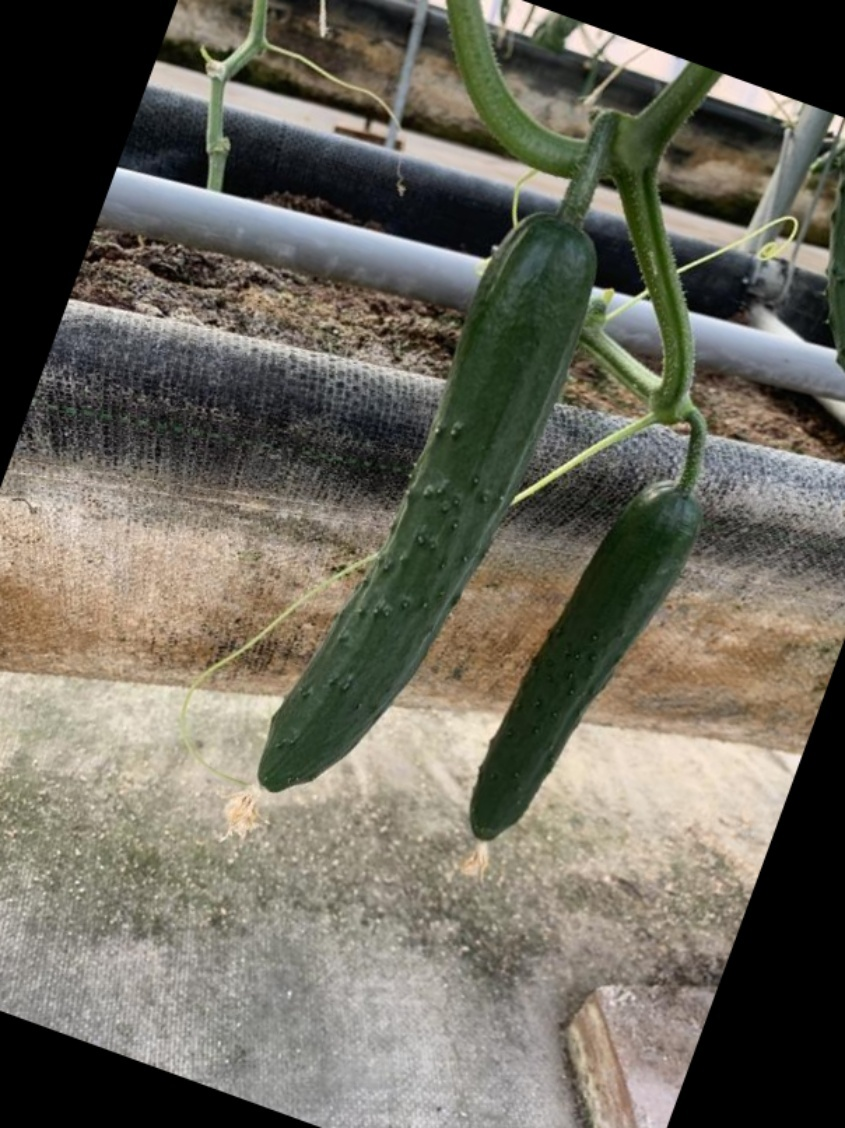mature: (459, 471, 700, 851)
